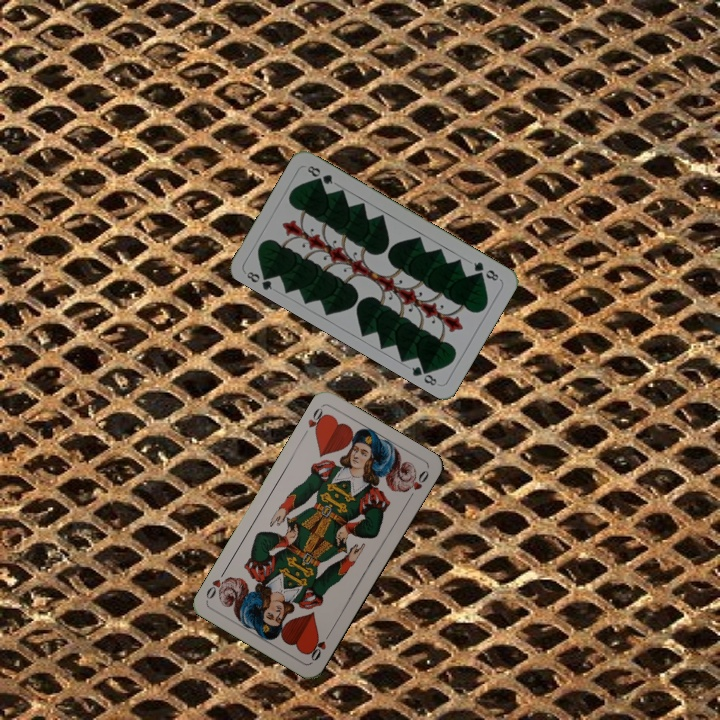G8: (242, 267, 275, 293), (469, 258, 501, 284)
HO: (299, 403, 330, 440), (305, 627, 333, 664)
